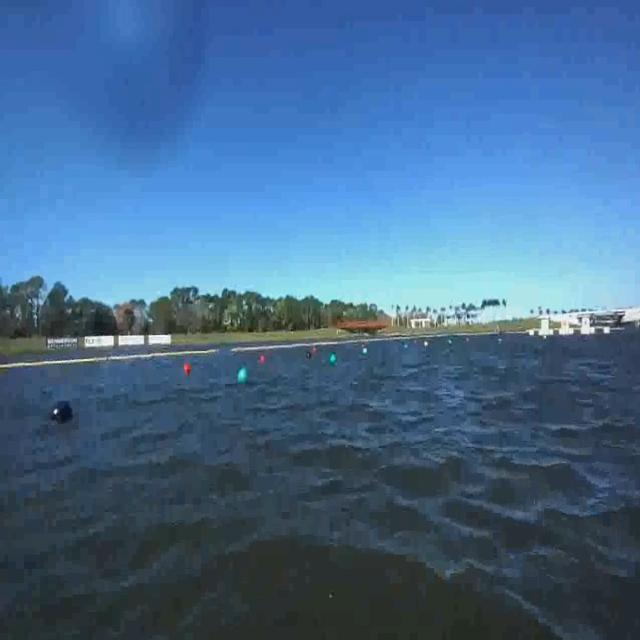black-buoy: (50, 401, 75, 425)
green-buoy: (239, 366, 249, 382), (329, 353, 336, 366)
red-buoy: (184, 362, 191, 376), (262, 355, 267, 364)
